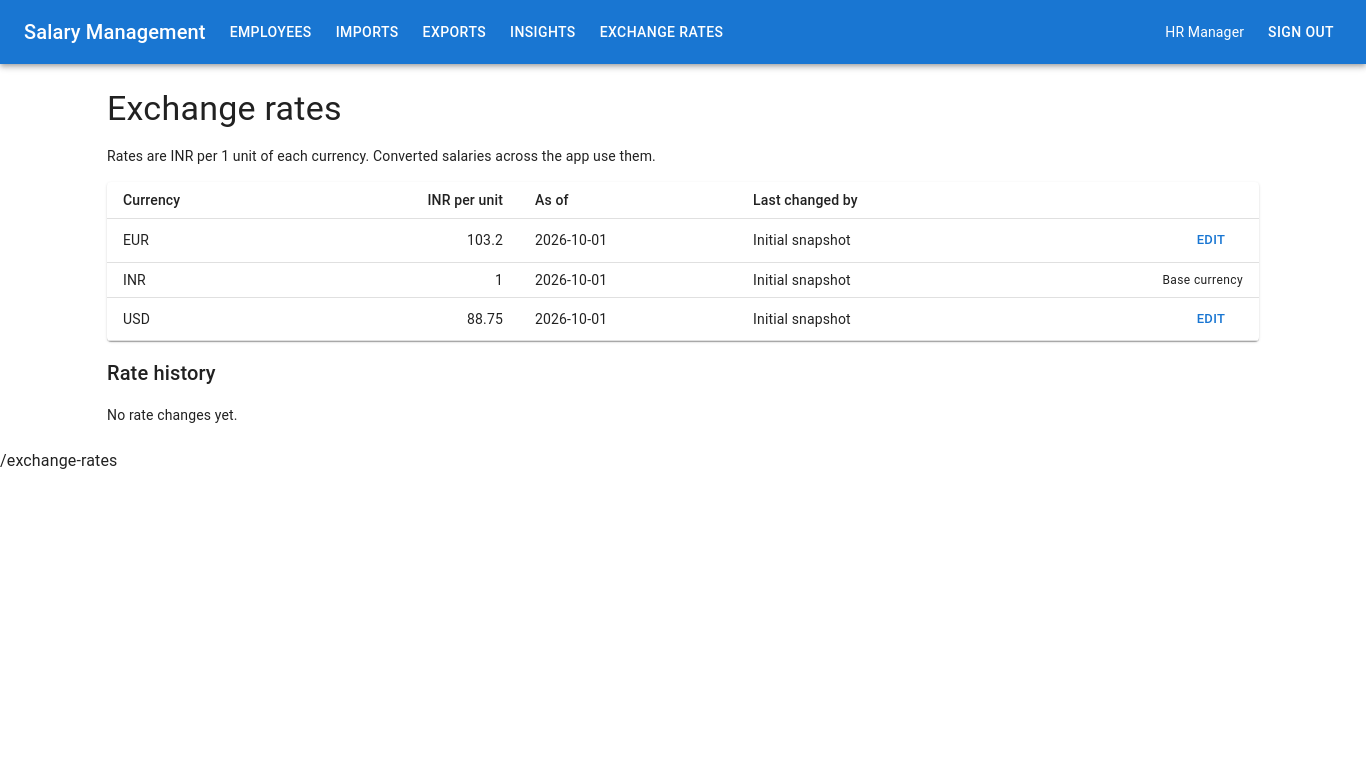
Test: exchange rates page › shows a server validation error in the dialog
The width and height of the screenshot is (1366, 768).
Click the button with aria-label "Edit USD rate": (1211, 319) [1179, 304, 1243, 334]
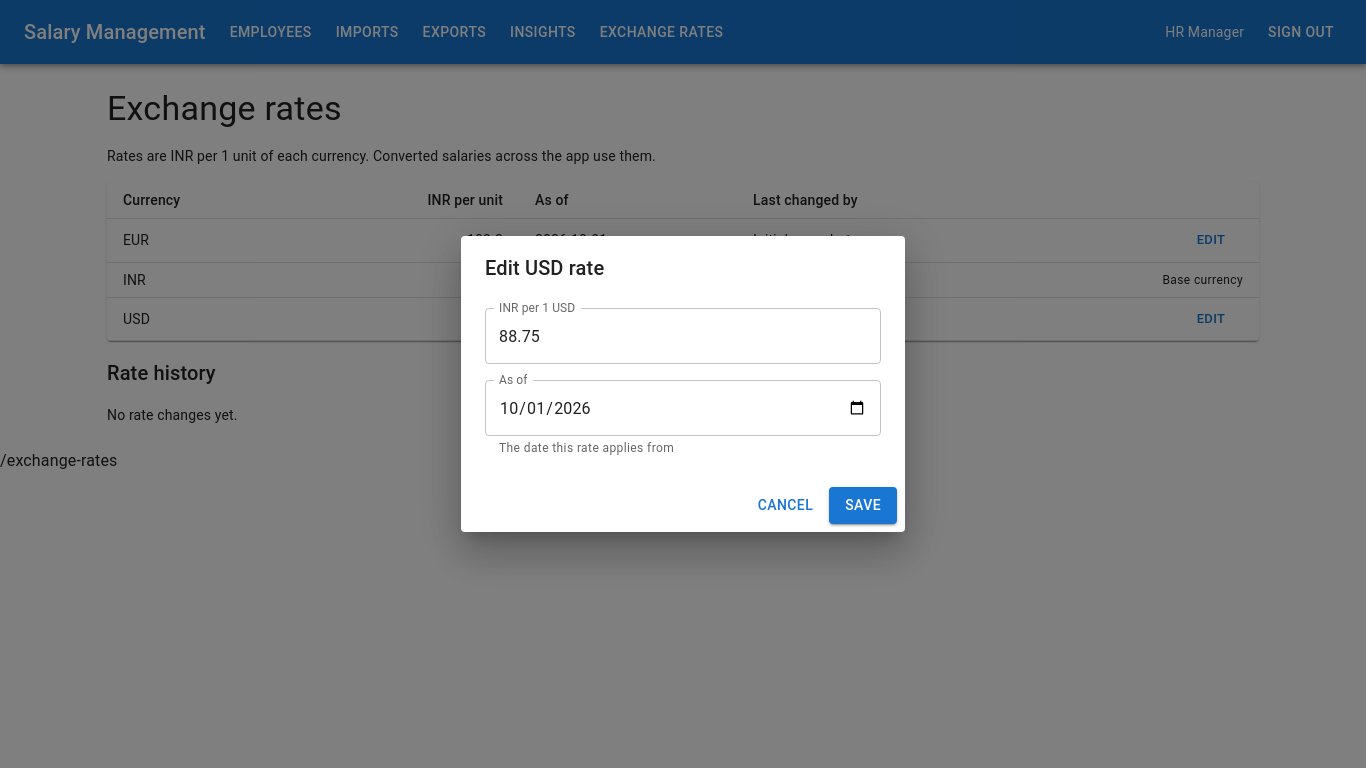
Click the button "Save": (863, 505) [829, 487, 897, 524]
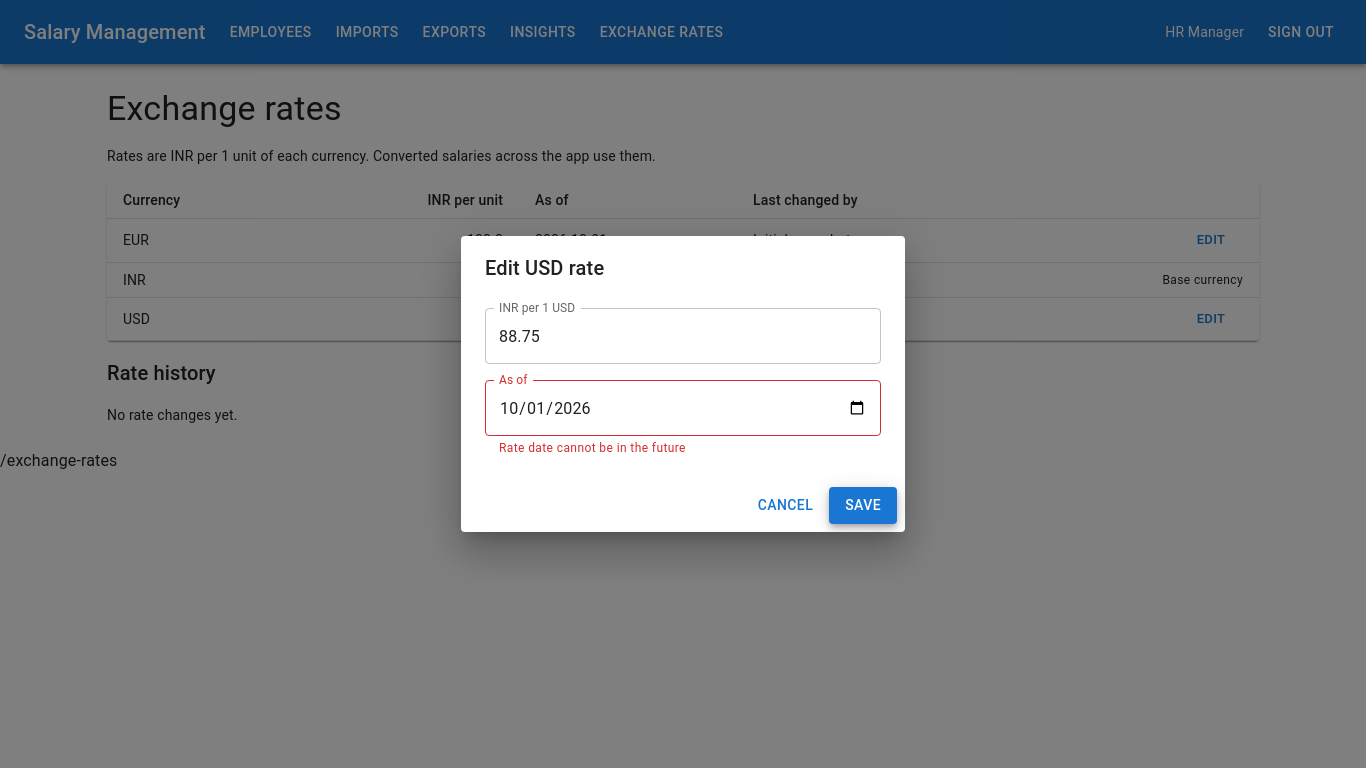
Now the text "Rate date cannot be in the future" is shown, box [499, 441, 686, 455]
